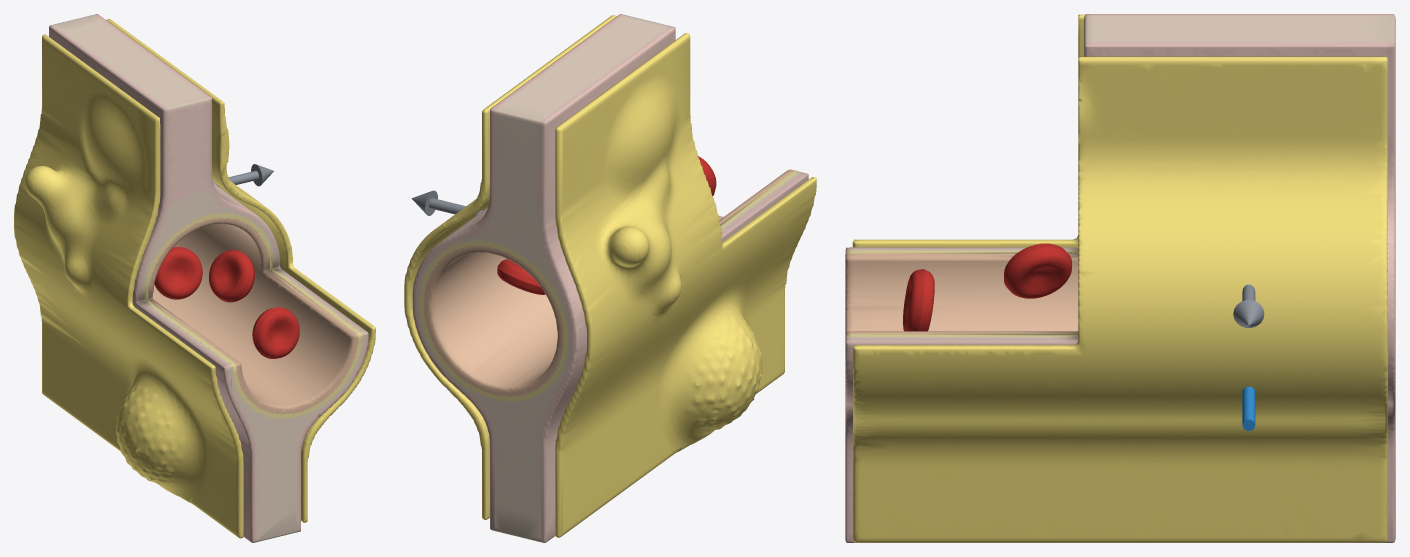
File: membrana.glb
3 views of the same model, side by side, from view 1: azimuth 30°, elevation 25°; view 2: azimuth 150°, elevation 25°; view 3: azimuth 270°, elevation 25° (orthographic). The views are drawn at different scales.
Visible parts, largest first — view 1: surfactant, endothelium, type1, interstitium, rbc, basement, co2; view 2: surfactant, interstitium, endothelium, type1, basement, rbc, co2; view 3: surfactant, endothelium, type1, interstitium, rbc, basement, co2.
Part boxes in pixels (bbox=[...]): surfactant: bbox=[14, 19, 375, 538]; endothelium: bbox=[148, 217, 358, 414]; type1: bbox=[49, 14, 368, 542]; interstitium: bbox=[53, 15, 365, 542]; rbc: bbox=[154, 247, 299, 358]; basement: bbox=[143, 212, 363, 418]; co2: bbox=[213, 164, 273, 186]; surfactant: bbox=[404, 15, 816, 537]; interstitium: bbox=[416, 15, 802, 542]; endothelium: bbox=[424, 169, 794, 396]; type1: bbox=[412, 14, 808, 542]; basement: bbox=[418, 170, 798, 401]; rbc: bbox=[497, 156, 716, 294]; co2: bbox=[411, 190, 482, 216]; surfactant: bbox=[852, 14, 1388, 542]; endothelium: bbox=[845, 253, 1078, 338]; type1: bbox=[845, 14, 1395, 542]; interstitium: bbox=[845, 15, 1395, 344]; rbc: bbox=[902, 243, 1071, 331]; basement: bbox=[845, 250, 1078, 340]; co2: bbox=[1233, 284, 1264, 327].
Size of the model in its own units: 0.0385 by 0.06 by 0.06.
